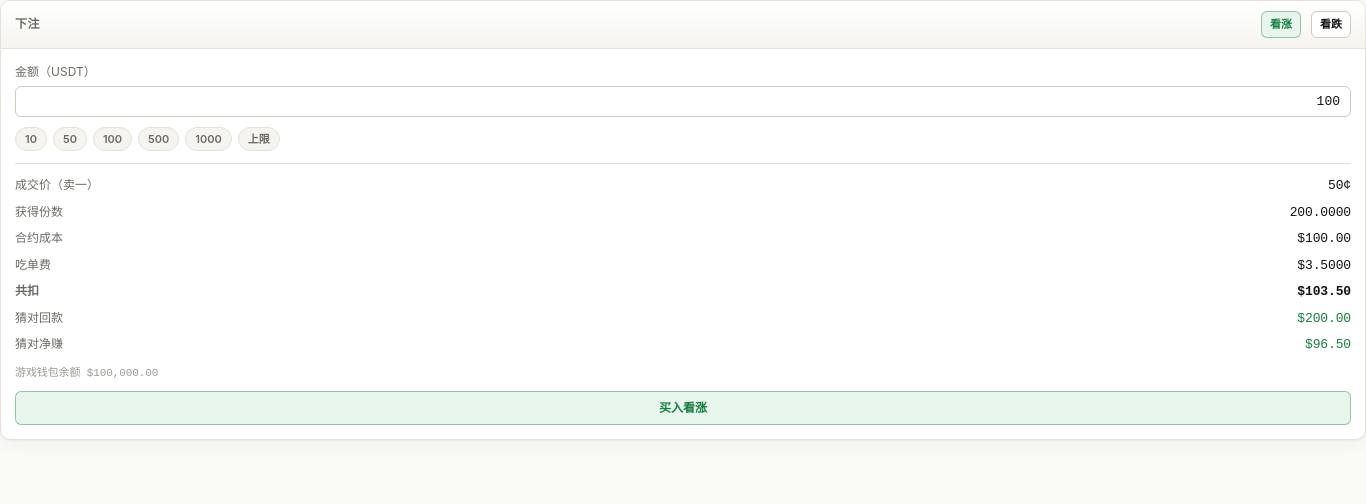
Scenario: BetTicket：下单与错误提示 › 下单成功给出份数与成本回执
Expected: the text "200.0000" is shown, [1290,204,1351,220]
Click the button "买入看涨": (683, 408) [15,391,1351,425]
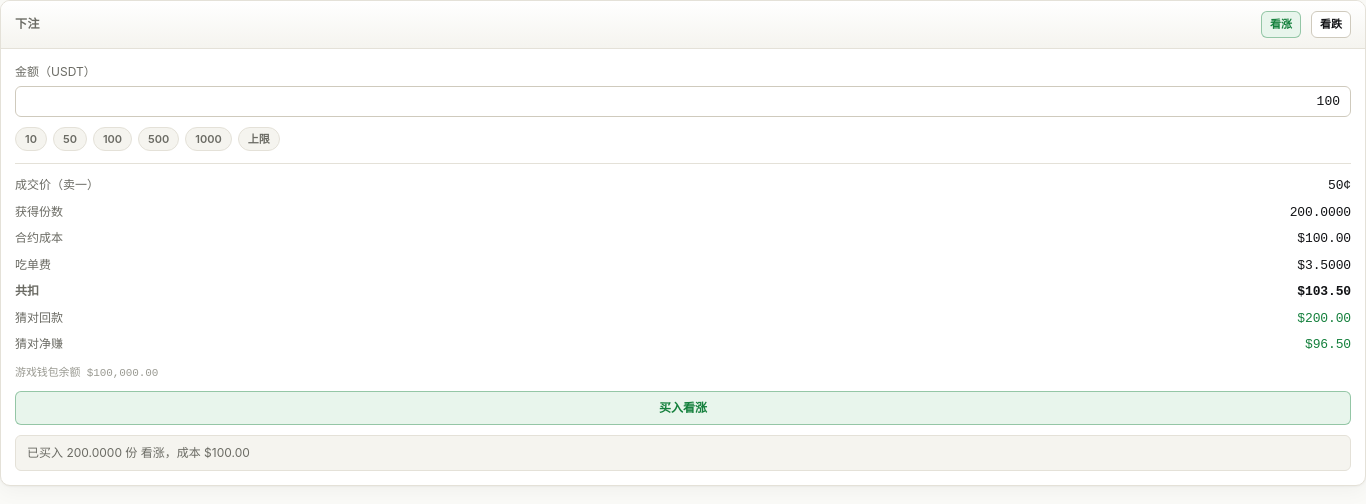
Now the text "已买入 200.0000 份 看涨，成本 $100.00" is shown, box [15,435,1351,471]
